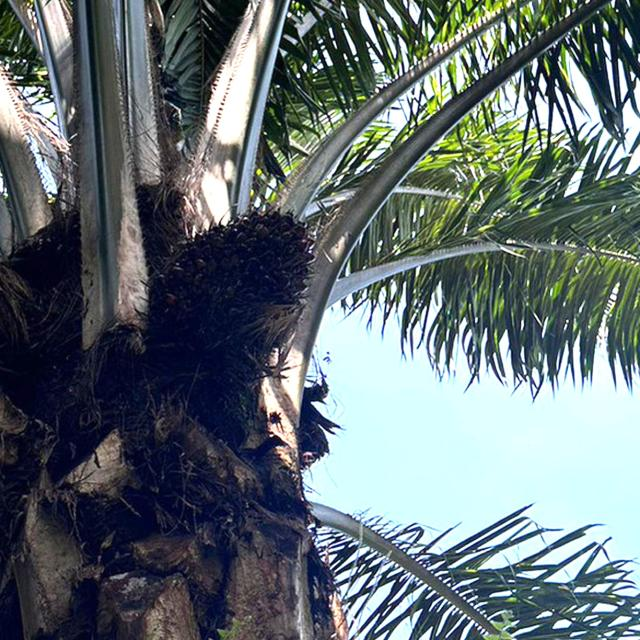ripe: (143, 194, 330, 377)
